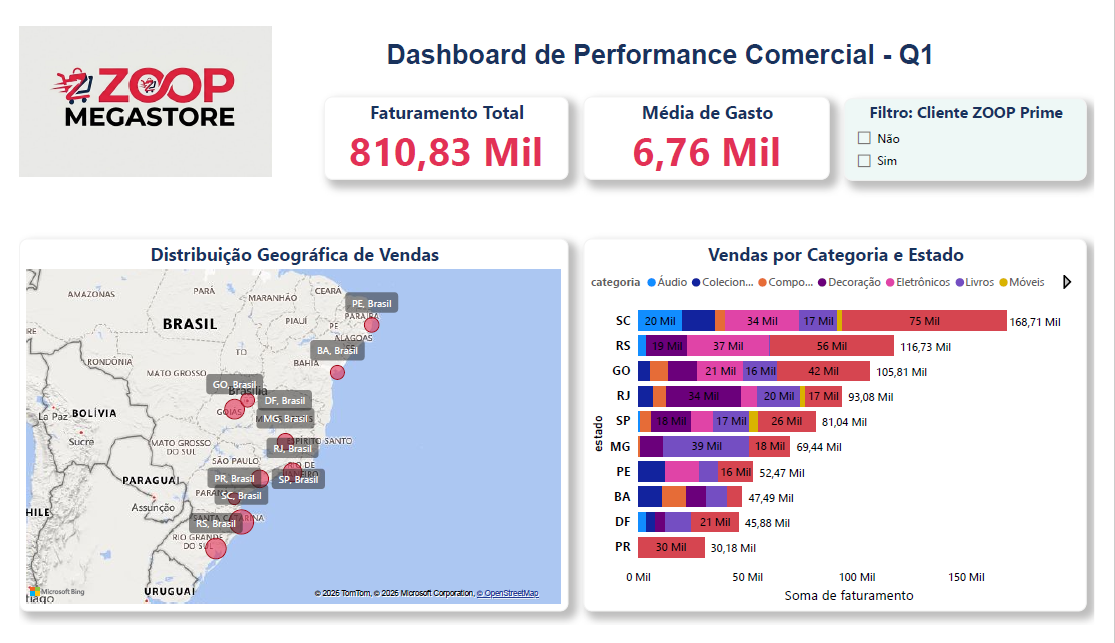

The dashboard page shown, as its layout file describes it:
{"tool":"powerbi","page":{"name":"Página 1","canvas":[1280,720],"ordinal":0},"visuals":[{"type":"card","title":"Faturamento Total","fields":{"Values":["Sum(zoop_megastore vendas.faturamento)"]},"box":[362.9,91.1,290.9,98.4],"z":0},{"type":"card","title":"Média de Gasto","fields":{"Values":["Avg(zoop_megastore vendas.faturamento)"]},"box":[671.5,91.1,293.9,98.4],"z":1000},{"type":"map","title":"Distribuição Geográfica de Vendas ","fields":{"Category":["zoop_megastore clientes.Localizacao_Completa"],"Size":["Sum(zoop_megastore vendas.faturamento)"]},"box":[0,260.1,653.9,443.8],"z":2000},{"type":"barChart","title":"Vendas por Categoria e Estado","fields":{"Category":["zoop_megastore clientes.estado"],"Y":["Sum(zoop_megastore vendas.faturamento)"],"Series":["zoop_megastore vendas.categoria"]},"box":[671.5,260.1,599.5,443.8],"z":3000},{"type":"slicer","title":"Filtro: Cliente ZOOP Prime","fields":{"Values":["zoop_megastore clientes.plano_assinatura"]},"box":[981.6,92.6,289.5,98.4],"z":4000},{"type":"image","box":[0,2.9,301.2,188.1],"z":5000},{"type":"textbox","box":[286.5,17.7,963,48.7],"z":6000}]}

Visuals, with their boxes in screenshot pixels (x1, y1, x2, y2), scaled from the page's 1280x720 canvas onto the 1115x643 screenshot:
"Faturamento Total" card: crop(316, 81, 570, 169)
"Média de Gasto" card: crop(585, 81, 841, 169)
"Distribuição Geográfica de Vendas " map: crop(0, 232, 570, 629)
"Vendas por Categoria e Estado" barChart: crop(585, 232, 1107, 629)
"Filtro: Cliente ZOOP Prime" slicer: crop(855, 83, 1107, 171)
image: crop(0, 3, 262, 171)
textbox: crop(250, 16, 1088, 59)
